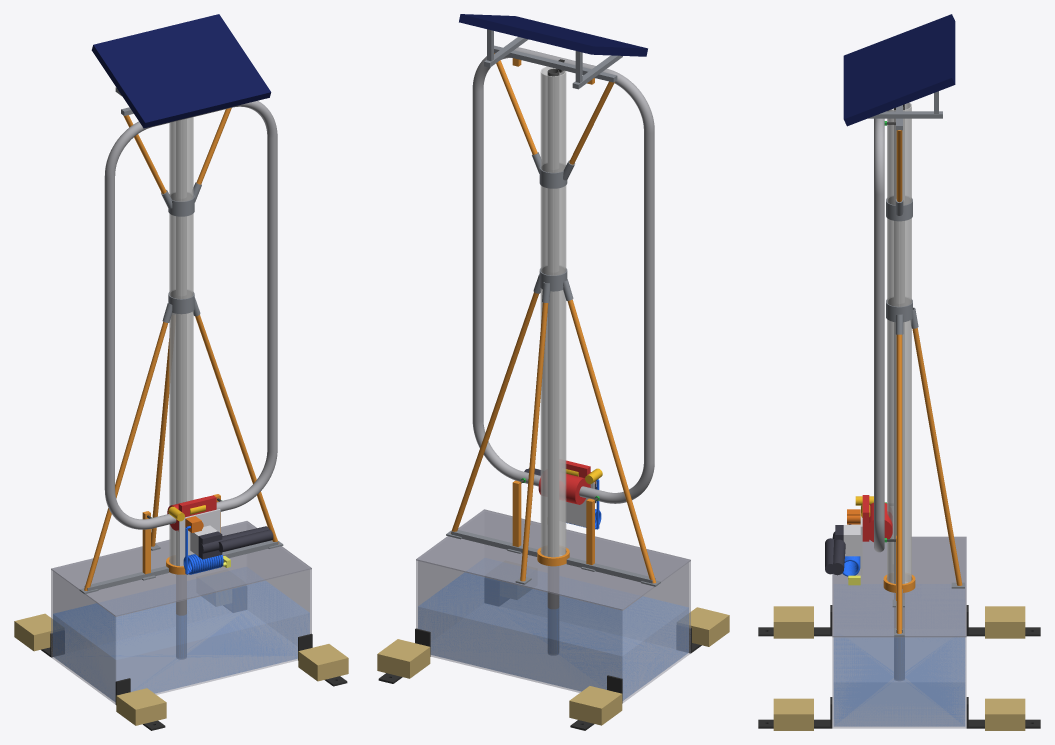
The model's file is track-supports-assembly.glb.
3 views of the same model, side by side, from view 1: azimuth 30°, elevation 25°; view 2: azimuth 150°, elevation 25°; view 3: azimuth 270°, elevation 25° (orthographic). The views are drawn at different scales.
Visible parts, largest first — view 1: tank, tank_water, solar_panel_30W, track_loop, growing_pipe, lid, spine_tube, sandbags, lower_aframe_and_back_strut_16mm, cart_arm_folded, clamp_collars_50mm, base_bar_and_lid_plates (+5 smaller); view 2: tank, tank_water, growing_pipe, track_loop, lid, spine_tube, lower_aframe_and_back_strut_16mm, sandbags, solar_panel_30W, base_bar_and_lid_plates, clamp_collars_50mm, panel_rails_and_posts (+5 smaller); view 3: tank, tank_water, lid, growing_pipe, solar_panel_30W, sandbags, track_loop, lower_aframe_and_back_strut_16mm, spine_tube, fold_out_feet, clamp_collars_50mm, cart_arm_folded (+4 smaller).
Boxes of the visible parts, x1,y1,x2,y2 form: tank: [51, 522, 311, 704]; tank_water: [53, 581, 309, 701]; solar_panel_30W: [91, 14, 271, 128]; track_loop: [104, 100, 277, 529]; growing_pipe: [169, 117, 193, 566]; lid: [51, 521, 311, 616]; spine_tube: [176, 119, 186, 658]; sandbags: [14, 600, 348, 725]; lower_aframe_and_back_strut_16mm: [84, 315, 278, 590]; cart_arm_folded: [198, 526, 273, 559]; clamp_collars_50mm: [161, 182, 201, 322]; base_bar_and_lid_plates: [79, 540, 283, 594]; tank: [416, 511, 690, 702]; tank_water: [418, 573, 688, 700]; growing_pipe: [540, 66, 566, 557]; track_loop: [472, 47, 654, 503]; lid: [416, 509, 690, 610]; spine_tube: [547, 68, 559, 654]; lower_aframe_and_back_strut_16mm: [451, 292, 656, 583]; sandbags: [377, 607, 729, 725]; solar_panel_30W: [459, 14, 647, 56]; base_bar_and_lid_plates: [446, 530, 660, 586]; clamp_collars_50mm: [532, 152, 575, 302]; panel_rails_and_posts: [484, 29, 622, 89]; tank: [832, 637, 966, 728]; tank_water: [834, 637, 964, 726]; lid: [832, 536, 966, 637]; growing_pipe: [887, 102, 911, 583]; solar_panel_30W: [843, 14, 955, 126]; sandbags: [773, 606, 1025, 730]; track_loop: [874, 118, 884, 552]; lower_aframe_and_back_strut_16mm: [896, 328, 962, 633]; spine_tube: [894, 104, 904, 680]; fold_out_feet: [758, 605, 1040, 728]; clamp_collars_50mm: [886, 198, 918, 334]; cart_arm_folded: [825, 525, 845, 575].
Size of the model in its own units: 760 by 2080 by 840.
